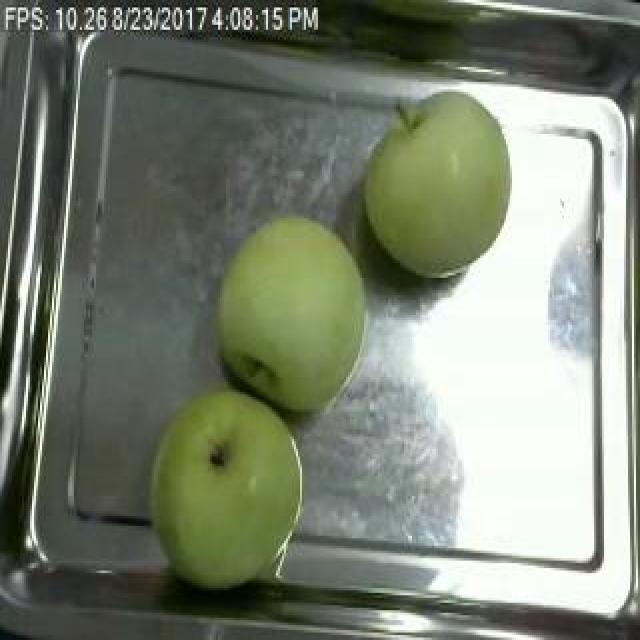Rotten Apple: (139, 394, 323, 600), (213, 208, 377, 414), (370, 98, 512, 286)
